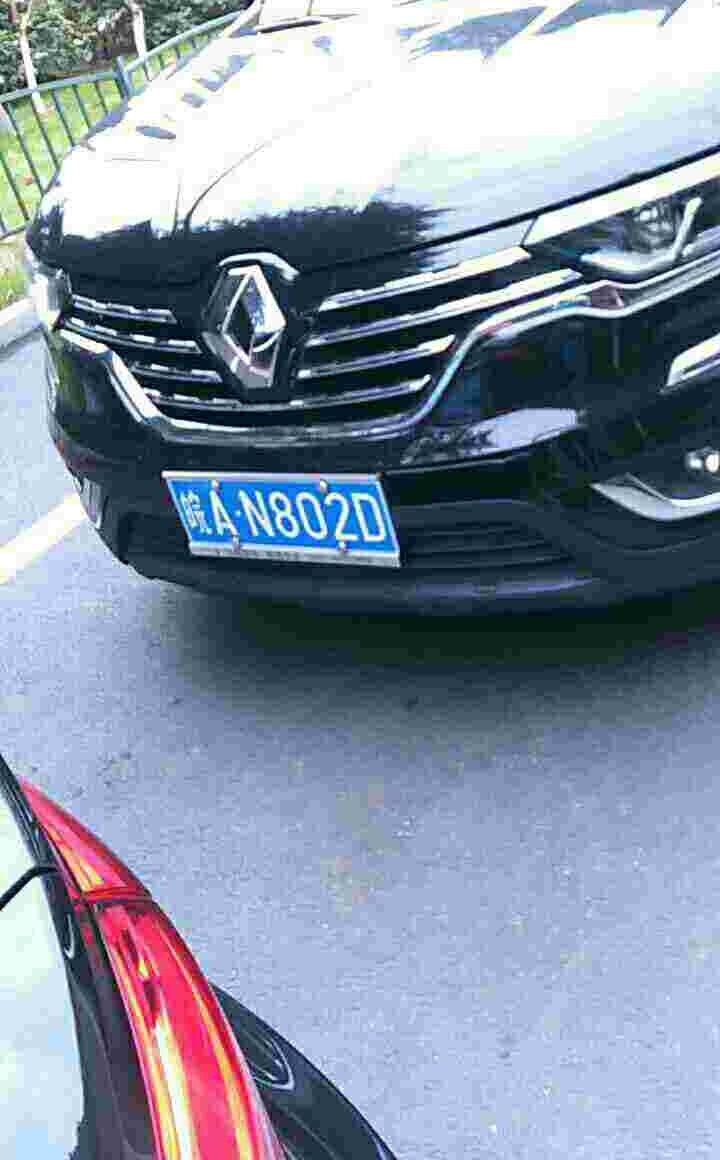car: (153, 468, 406, 564)
